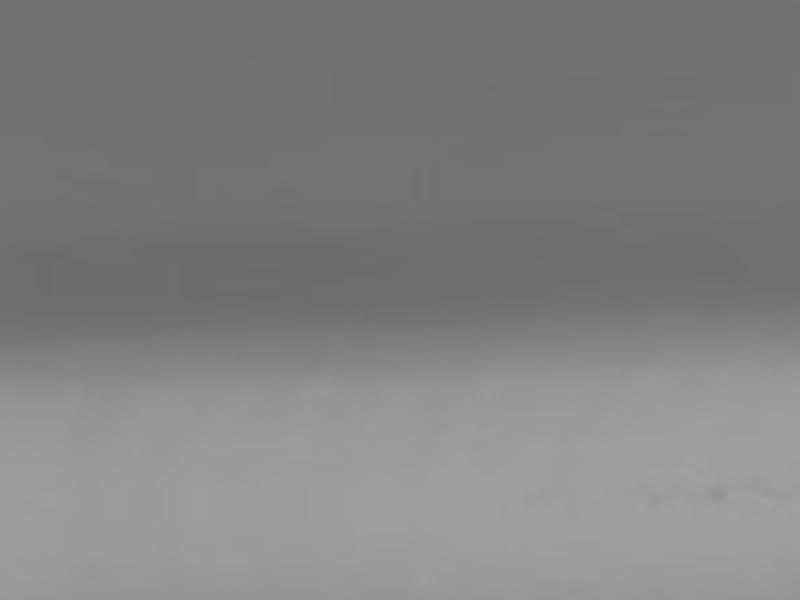defect: (706, 481, 725, 502), (643, 492, 663, 509)
